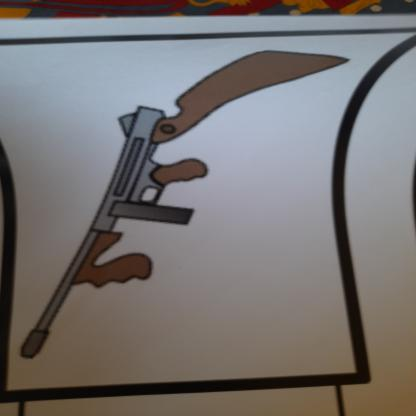Bootlegger: (18, 42, 353, 362)
